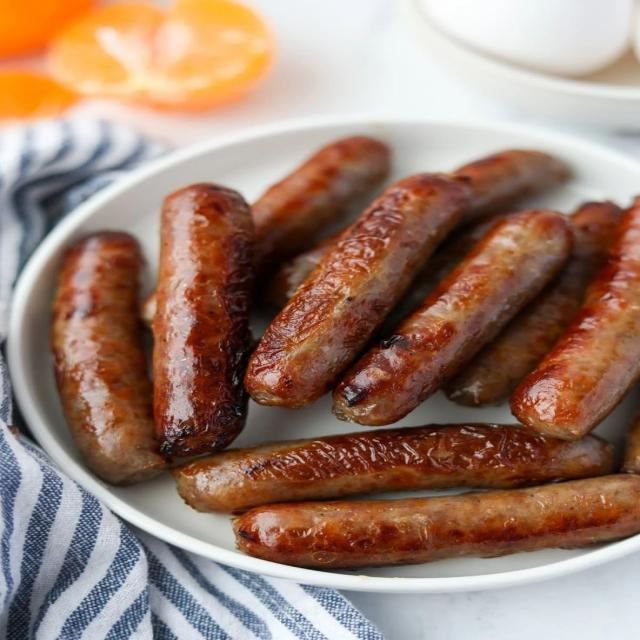sausage: (246, 174, 468, 407), (334, 210, 571, 425), (173, 424, 613, 511), (233, 475, 639, 568), (446, 202, 621, 405), (512, 199, 639, 439), (52, 232, 167, 484), (154, 184, 253, 455), (252, 137, 390, 280), (252, 137, 390, 274), (379, 214, 505, 336), (381, 215, 502, 333), (394, 223, 491, 321), (455, 150, 568, 222), (263, 232, 341, 310), (621, 413, 639, 474), (140, 290, 157, 328)
